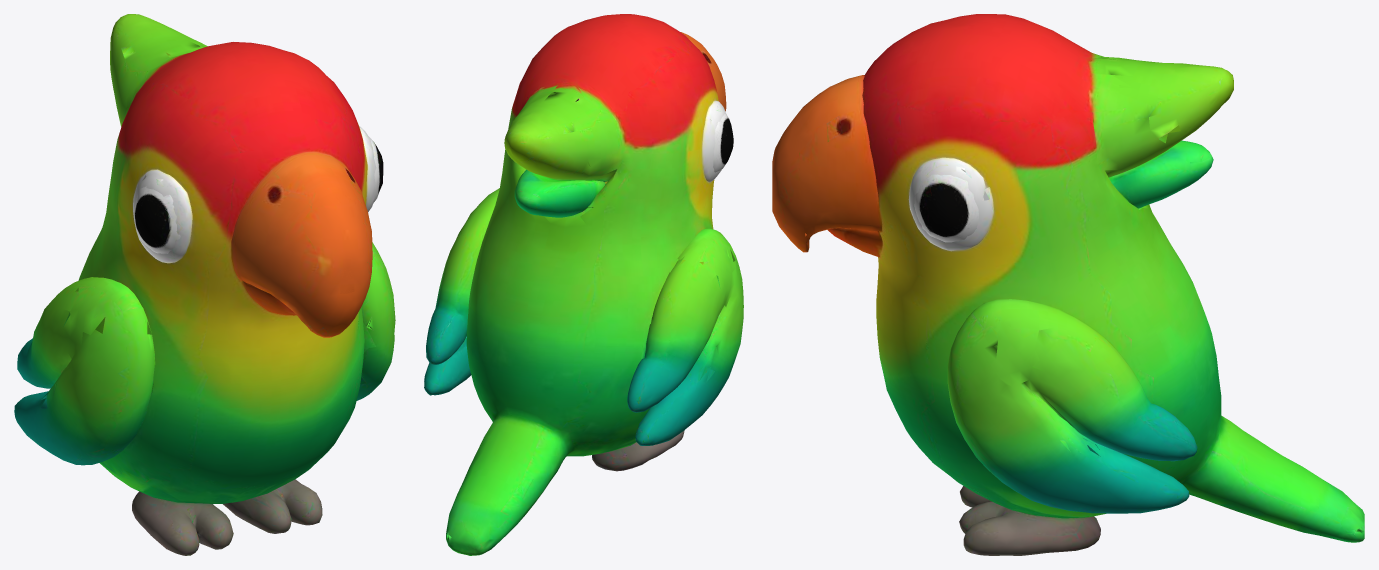
The model's file is gigi_toy.glb.
The picture shows the model from 3 angles, left to right: view 1: azimuth 30°, elevation 25°; view 2: azimuth 150°, elevation 25°; view 3: azimuth 270°, elevation 25°; orthographic projection. The views are drawn at different scales.
Parts seen in each view (by area): view 1: Mesh_0; view 2: Mesh_0; view 3: Mesh_0.
Boxes of the visible parts, box(x1,y1,x2,y2) form: Mesh_0: box(14, 14, 395, 555); Mesh_0: box(424, 14, 743, 555); Mesh_0: box(772, 14, 1364, 555).
Size of the model in its own units: 0.6328 by 0.9531 by 1.
Materials: 1 (1 with a texture image).
